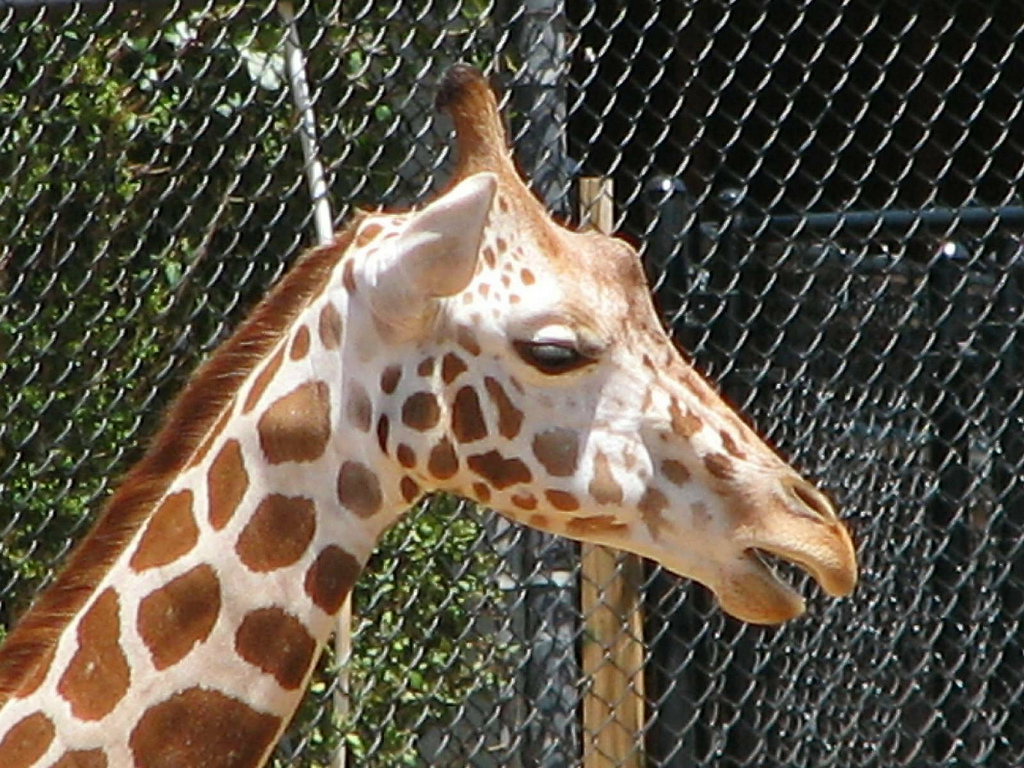giraffe: (106, 88, 848, 699)
